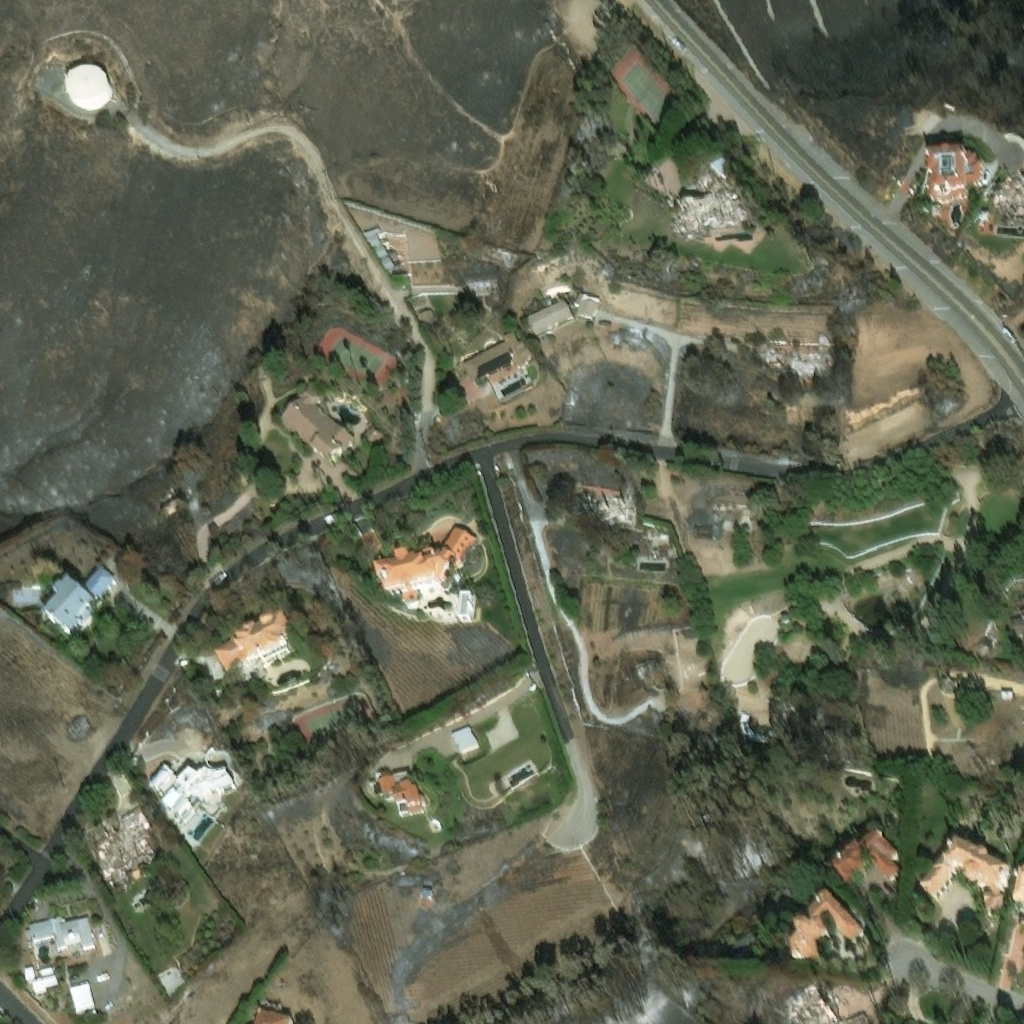0 no-damage: (371, 527, 484, 608), (917, 837, 1010, 912), (278, 376, 356, 465), (207, 607, 300, 677), (147, 766, 240, 828), (790, 893, 867, 967), (543, 472, 637, 529), (459, 328, 540, 389), (827, 833, 903, 891), (38, 577, 98, 638), (23, 914, 97, 952), (368, 769, 425, 818), (925, 148, 980, 194), (63, 59, 112, 108), (523, 298, 574, 339), (361, 226, 395, 272), (81, 561, 119, 602), (738, 709, 778, 746), (68, 984, 97, 1017), (571, 288, 600, 321), (449, 724, 481, 753), (359, 420, 388, 449), (251, 1009, 295, 1023), (777, 709, 799, 736), (31, 976, 60, 994), (417, 307, 439, 329), (1010, 867, 1023, 902), (938, 676, 957, 693), (389, 273, 409, 287), (23, 967, 36, 982), (80, 1014, 101, 1023), (39, 968, 54, 978), (998, 687, 1013, 696), (189, 736, 199, 747), (422, 889, 432, 898)
3 destroyed: (661, 159, 749, 234), (92, 807, 160, 888), (782, 984, 840, 1023), (992, 175, 1023, 228), (787, 346, 832, 372), (467, 274, 499, 294), (762, 343, 782, 367), (708, 501, 725, 517), (816, 334, 825, 343)
